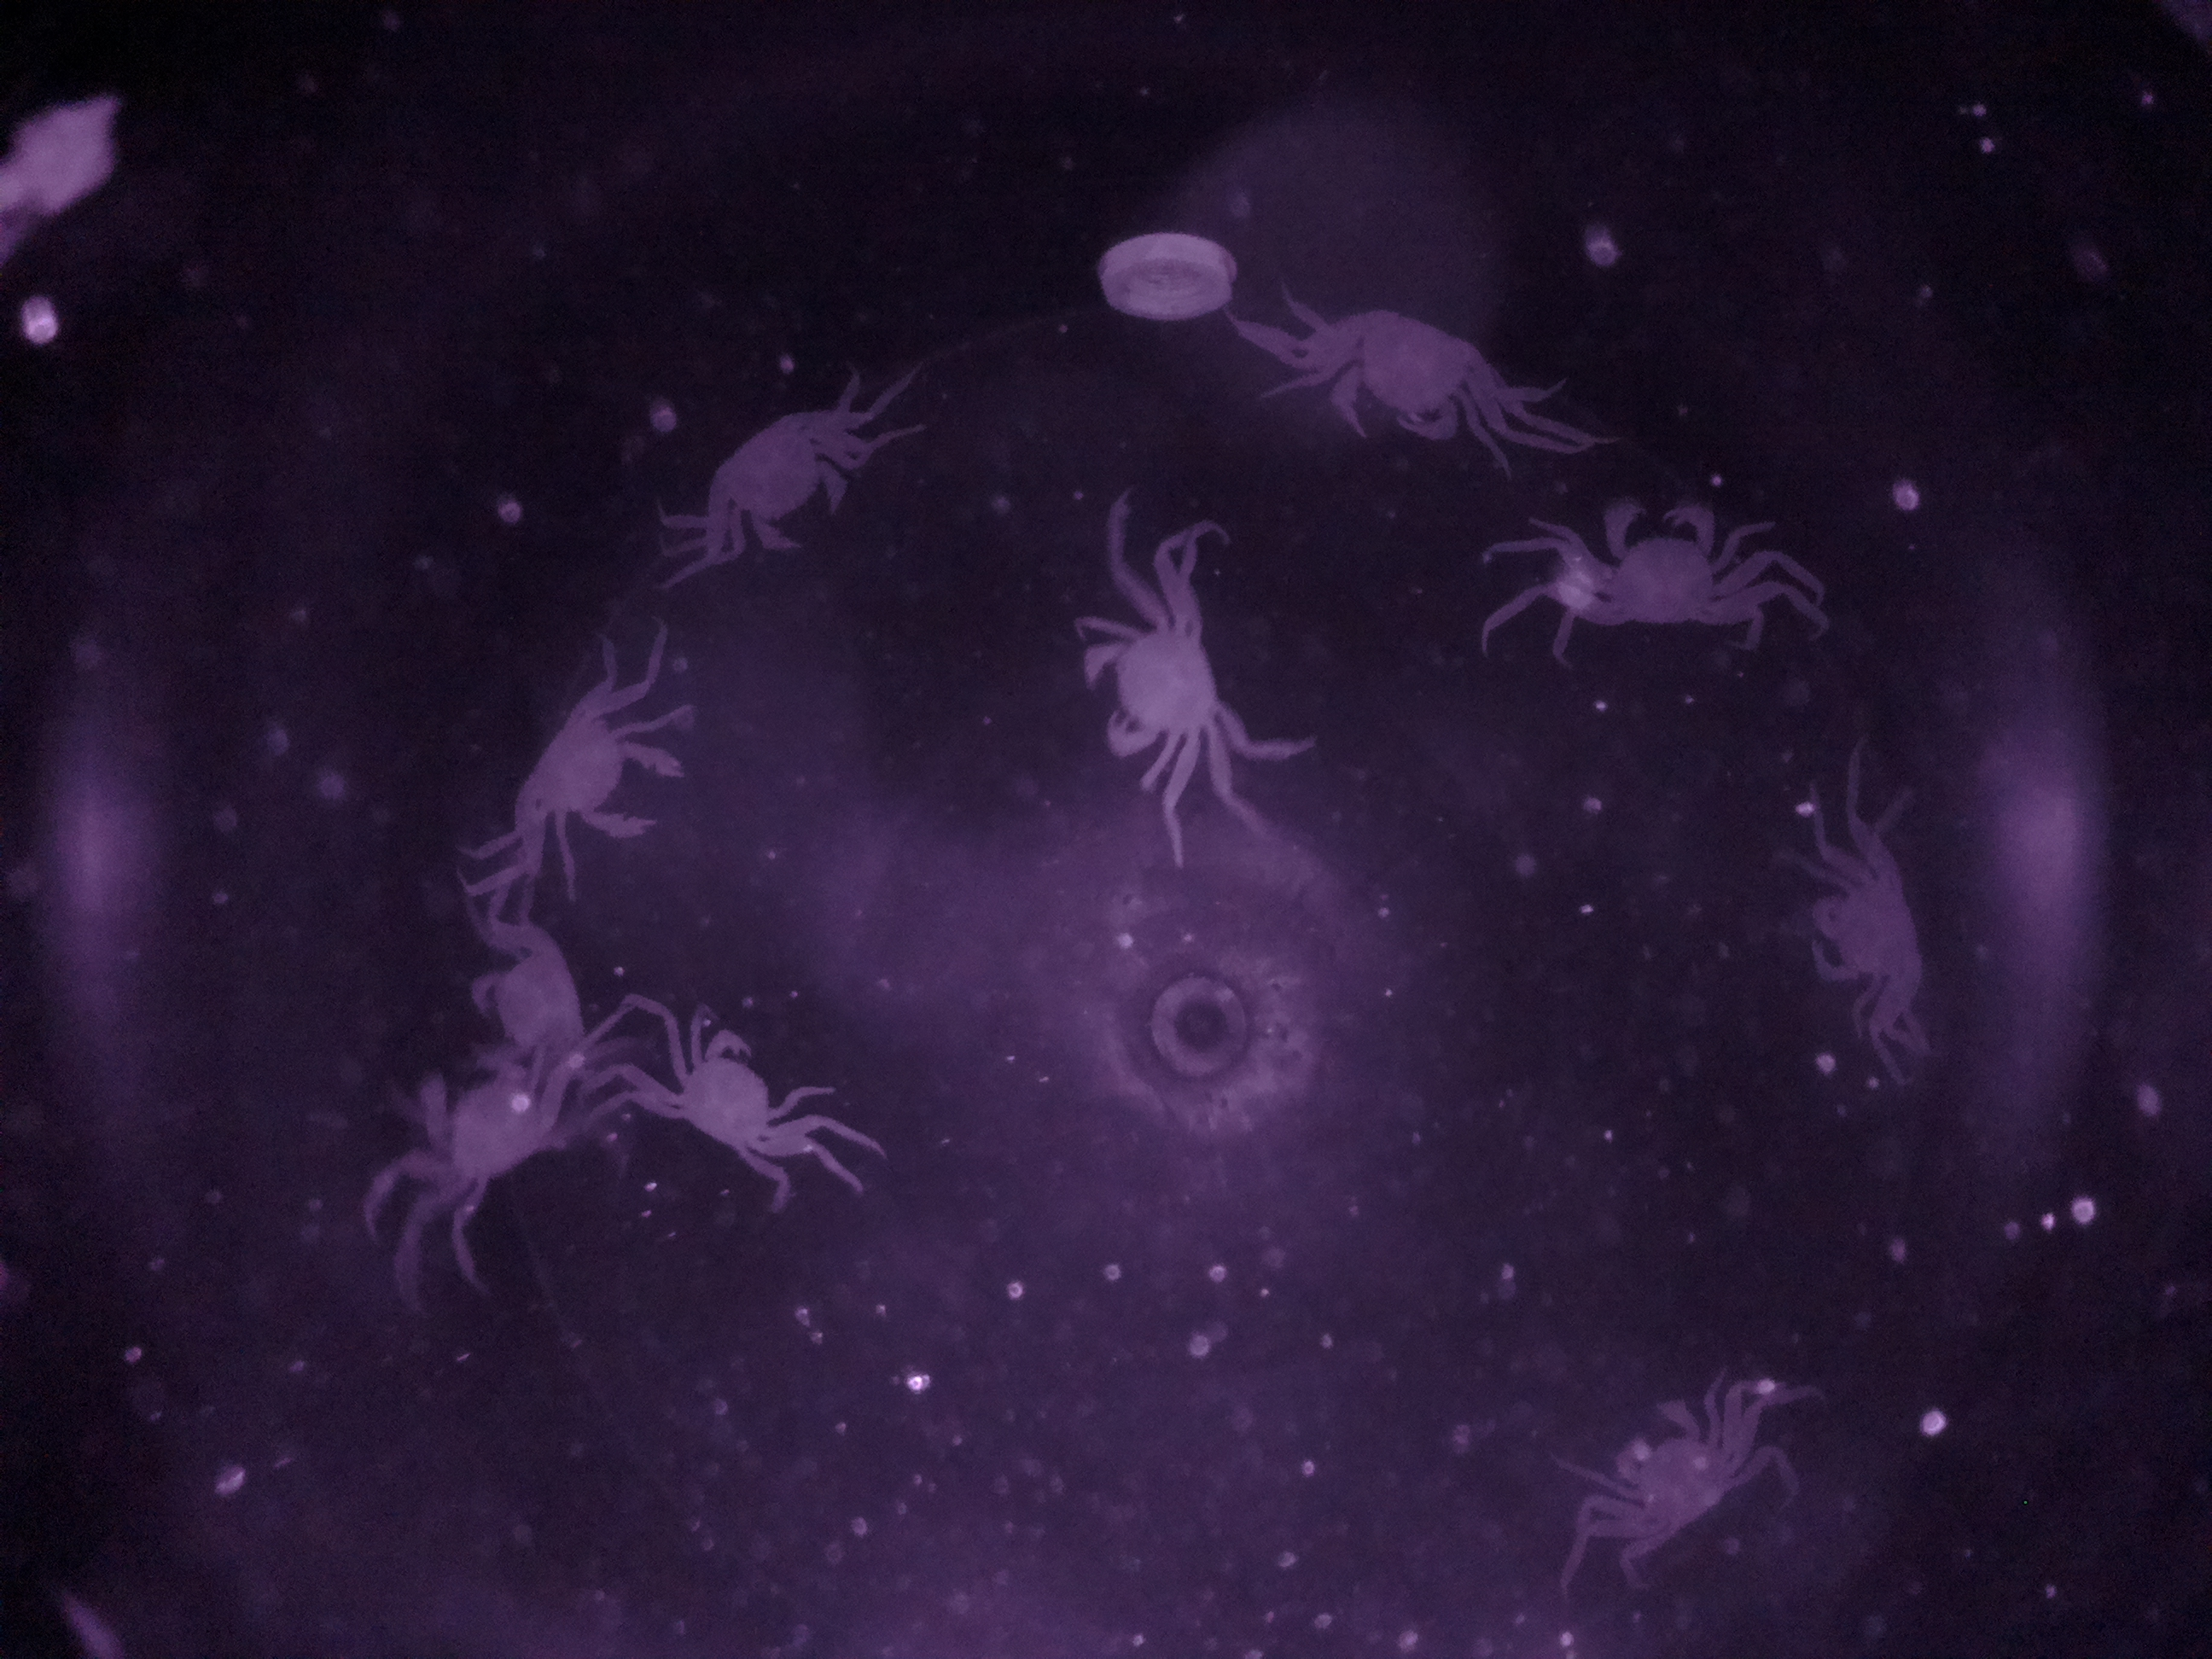Crab: (1068, 579, 1251, 795), (493, 673, 695, 861), (1294, 288, 1517, 457), (643, 1011, 852, 1178), (1550, 483, 1770, 641), (685, 382, 866, 570), (1792, 836, 1952, 1026), (1583, 1378, 1742, 1563)
